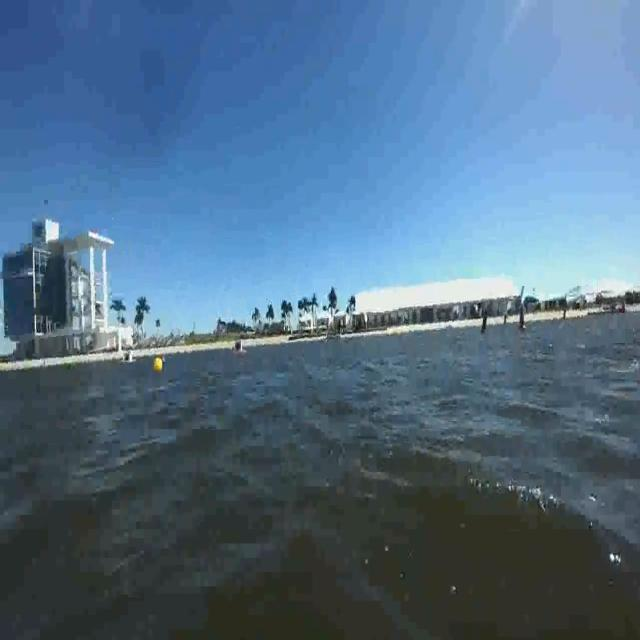yellow-buoy: (152, 356, 162, 374)
